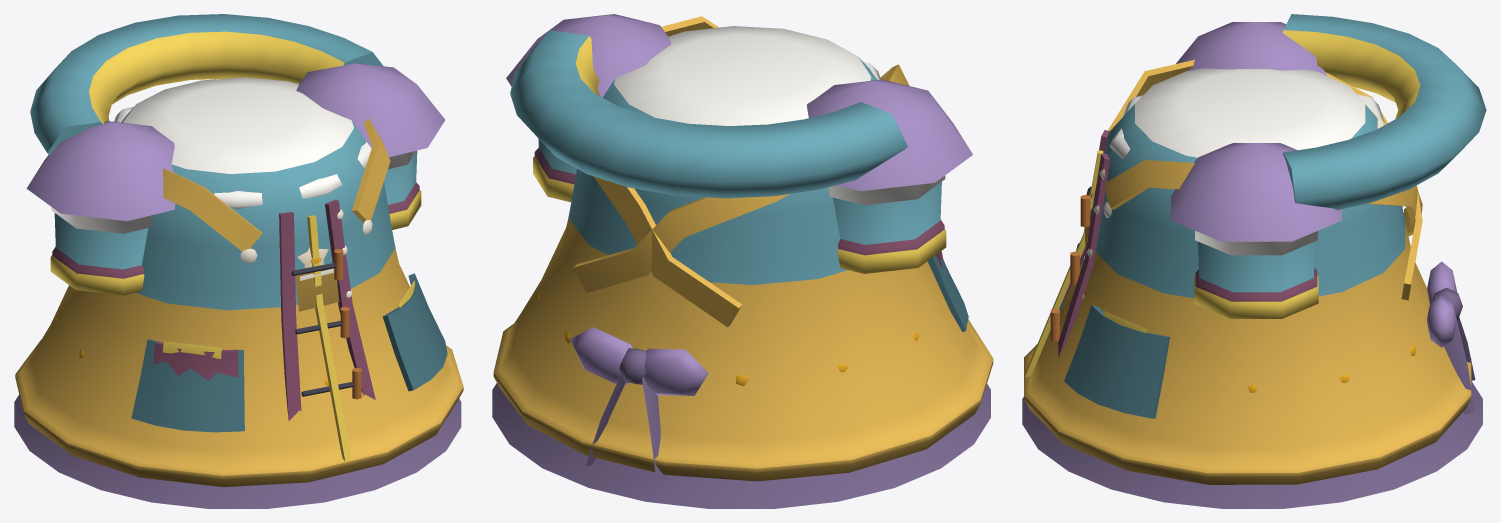
Rendered from wm-kids.glb.
The picture shows the model from 3 angles, left to right: view 1: azimuth 30°, elevation 25°; view 2: azimuth 150°, elevation 25°; view 3: azimuth 270°, elevation 25°; orthographic projection. The views are drawn at different scales.
Parts seen in each view (by area): view 1: kid_sunny@body, kid_rain@body, kid_party@body, kid_party_sleeve_l@arm-left, kid_party_sleeve_r@arm-right, kid_berry@body, kid_rain_sleeve_l@arm-left, kid_rain_sleeve_r@arm-right, kid_sunny_sleeve_l@arm-left, kid_berry_sleeve_l@arm-left; view 2: kid_sunny@body, kid_rain@body, kid_party@body, kid_party_sleeve_l@arm-left, kid_rain_sleeve_l@arm-left, kid_party_sleeve_r@arm-right, kid_sunny_sleeve_l@arm-left, kid_rain_sleeve_r@arm-right, kid_berry_sleeve_l@arm-left; view 3: kid_sunny@body, kid_rain@body, kid_party@body, kid_party_sleeve_r@arm-right, kid_rain_sleeve_r@arm-right, kid_party_sleeve_l@arm-left, kid_berry@body, kid_sunny_sleeve_r@arm-right, kid_berry_sleeve_r@arm-right.
Boxes of the visible parts, <box> form: kid_sunny@body: <box>15,77,463,486</box>; kid_rain@body: <box>30,14,447,461</box>; kid_party@body: <box>14,120,461,508</box>; kid_party_sleeve_l@arm-left: <box>26,121,175,221</box>; kid_party_sleeve_r@arm-right: <box>296,63,445,157</box>; kid_berry@body: <box>153,199,375,420</box>; kid_rain_sleeve_l@arm-left: <box>50,213,148,295</box>; kid_rain_sleeve_r@arm-right: <box>384,151,421,229</box>; kid_sunny_sleeve_l@arm-left: <box>51,207,152,233</box>; kid_berry_sleeve_l@arm-left: <box>52,247,143,278</box>; kid_sunny@body: <box>493,16,993,481</box>; kid_rain@body: <box>510,30,968,331</box>; kid_party@body: <box>492,290,990,508</box>; kid_party_sleeve_l@arm-left: <box>806,79,972,191</box>; kid_rain_sleeve_l@arm-left: <box>833,182,946,273</box>; kid_party_sleeve_r@arm-right: <box>506,14,671,97</box>; kid_sunny_sleeve_l@arm-left: <box>828,175,945,205</box>; kid_rain_sleeve_r@arm-right: <box>533,138,576,202</box>; kid_berry_sleeve_l@arm-left: <box>838,219,944,255</box>; kid_sunny@body: <box>1024,59,1471,484</box>; kid_rain@body: <box>1025,14,1486,418</box>; kid_party@body: <box>1022,108,1482,508</box>; kid_party_sleeve_r@arm-right: <box>1171,143,1341,241</box>; kid_rain_sleeve_r@arm-right: <box>1194,241,1318,318</box>; kid_party_sleeve_l@arm-left: <box>1176,22,1326,75</box>; kid_berry@body: <box>1057,130,1110,357</box>; kid_sunny_sleeve_r@arm-right: <box>1195,231,1317,255</box>; kid_berry_sleeve_r@arm-right: <box>1195,268,1317,301</box>.
Bounding box in the file's own units: 1.19 × 0.938 × 1.2.
